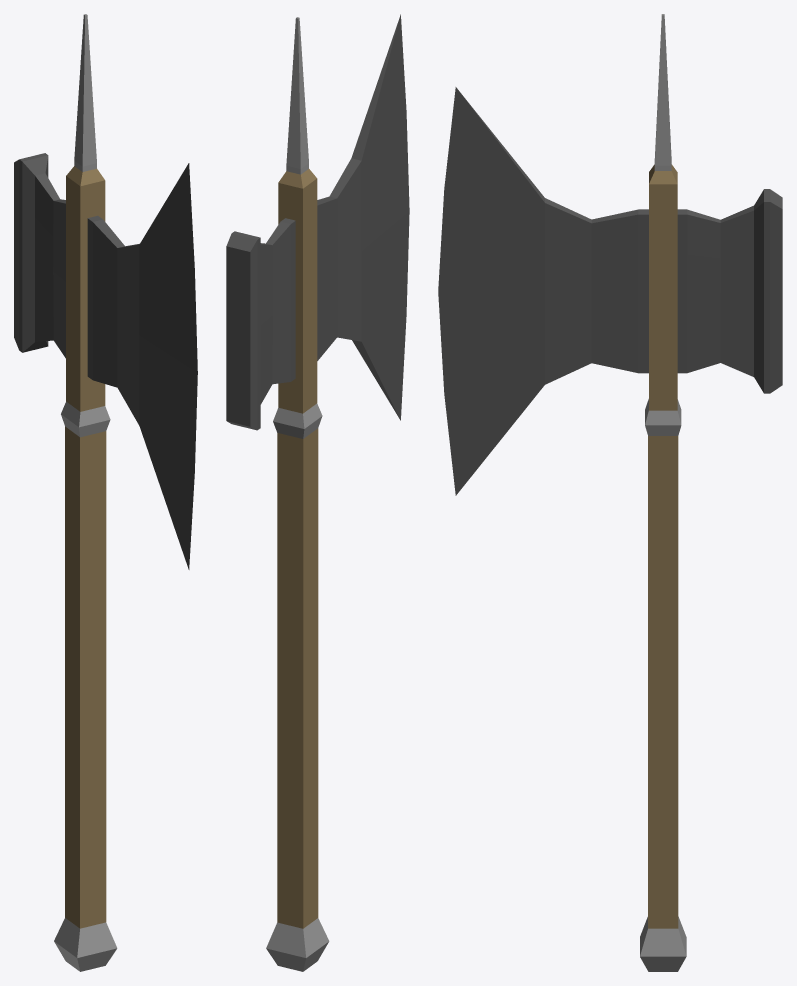
The picture shows the model from 3 angles, left to right: view 1: azimuth 30°, elevation 25°; view 2: azimuth 150°, elevation 25°; view 3: azimuth 270°, elevation 25°; orthographic projection.
Parts seen in each view (by area): view 1: топорище, рукоять; view 2: топорище, рукоять; view 3: топорище, рукоять.
Boxes of the visible parts, x1=… form: топорище: x1=14, y1=153, x2=197, y2=569; рукоять: x1=54, y1=14, x2=117, y2=971; топорище: x1=226, y1=14, x2=409, y2=430; рукоять: x1=266, y1=17, x2=329, y2=971; топорище: x1=438, y1=87, x2=782, y2=495; рукоять: x1=640, y1=14, x2=686, y2=971.
Bounding box in the file's own units: 34.85 × 784 × 257.
